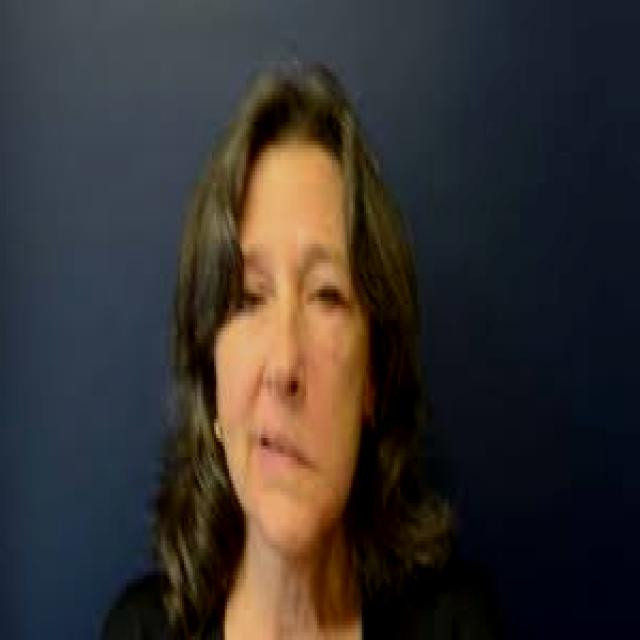stroke_face: (213, 111, 392, 558)
